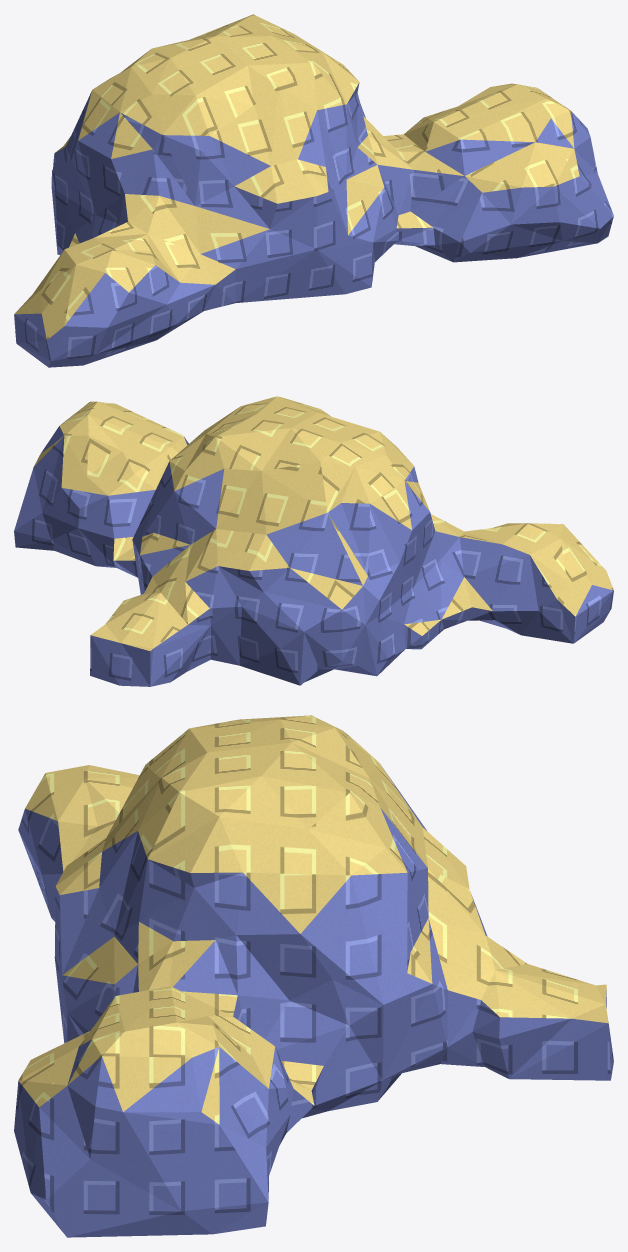
Rendered from BeachBoulders.glb.
The picture shows the model from 3 angles, top to bottom: view 1: azimuth 30°, elevation 25°; view 2: azimuth 150°, elevation 25°; view 3: azimuth 270°, elevation 25°; orthographic projection. The views are drawn at different scales.
Visible parts, largest first — view 1: BeachBoulders_Rock, BeachBoulders_Top; view 2: BeachBoulders_Rock, BeachBoulders_Top; view 3: BeachBoulders_Rock, BeachBoulders_Top.
Boxes of the visible parts, x1,y1,x2,y2 form: BeachBoulders_Rock: [14, 82, 613, 367]; BeachBoulders_Top: [14, 14, 579, 339]; BeachBoulders_Rock: [14, 426, 613, 686]; BeachBoulders_Top: [34, 396, 613, 650]; BeachBoulders_Rock: [14, 767, 613, 1237]; BeachBoulders_Top: [18, 715, 608, 1124].
Size of the model in its own units: 13.56 by 5.07 by 9.16.
Materials: 2 (2 with a texture image).
